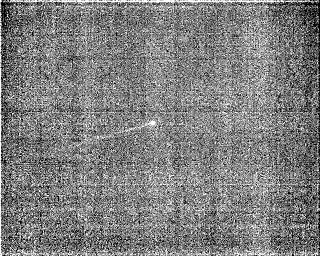AIRPLANE: (62, 119, 158, 150)
